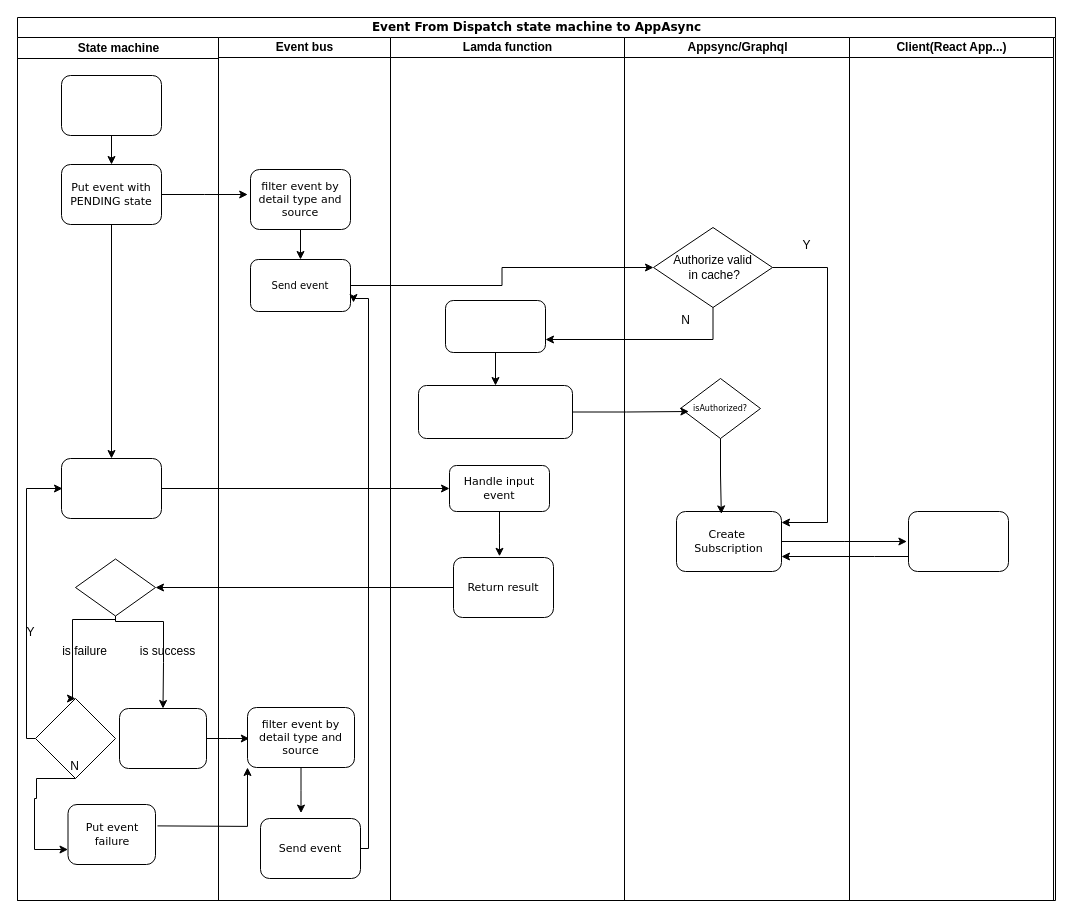
The diagram is 1073 pixels wide and 918 high, and some of its shapes have lost their labels. Here are the shapes that lost their labels. From the top down, the box of each, then its label:
(60, 74, 162, 136): Init state
(444, 300, 546, 352): Authorize
(418, 384, 572, 438): Return authorize result
(60, 458, 162, 518): Call Lamda function
(908, 510, 1008, 572): Receive status and display
(74, 558, 156, 616): check status
(34, 698, 116, 778): Retry < limit
(118, 708, 206, 768): Put event success
